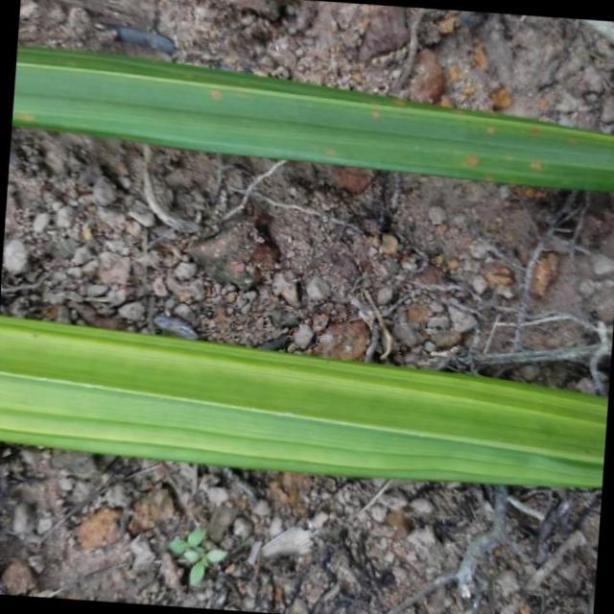nitrogen: (0, 312, 604, 491)
